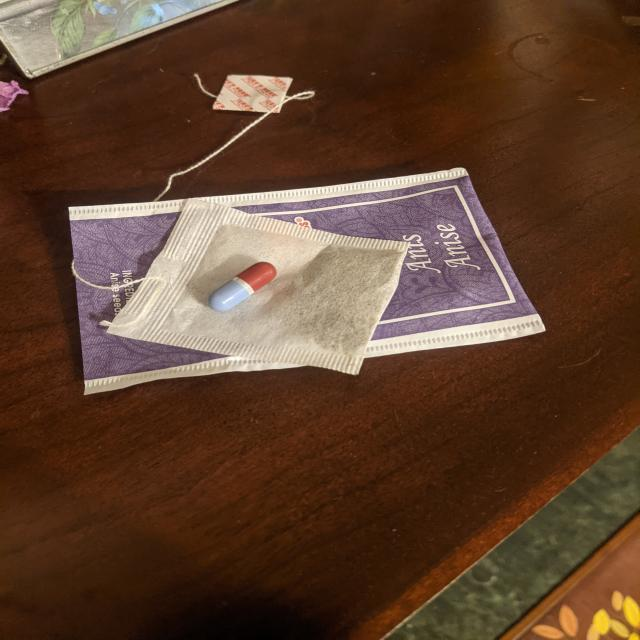non-organic waste: (206, 260, 280, 313)
